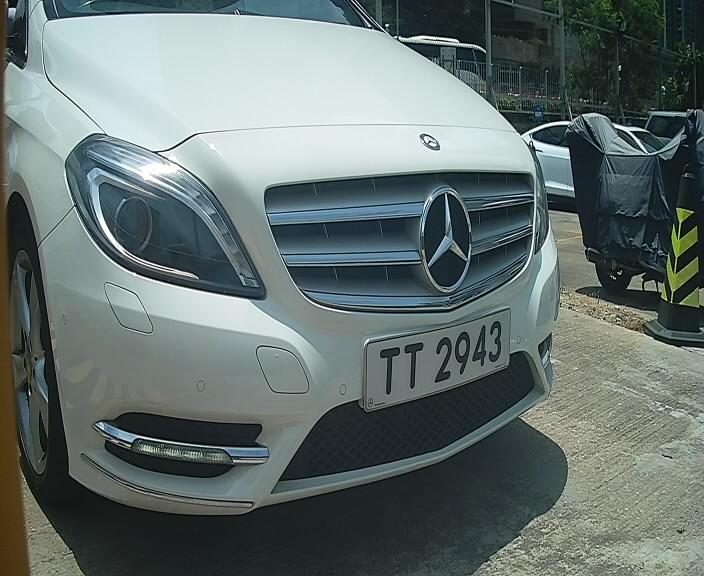License Plate: (362, 307, 510, 412)
